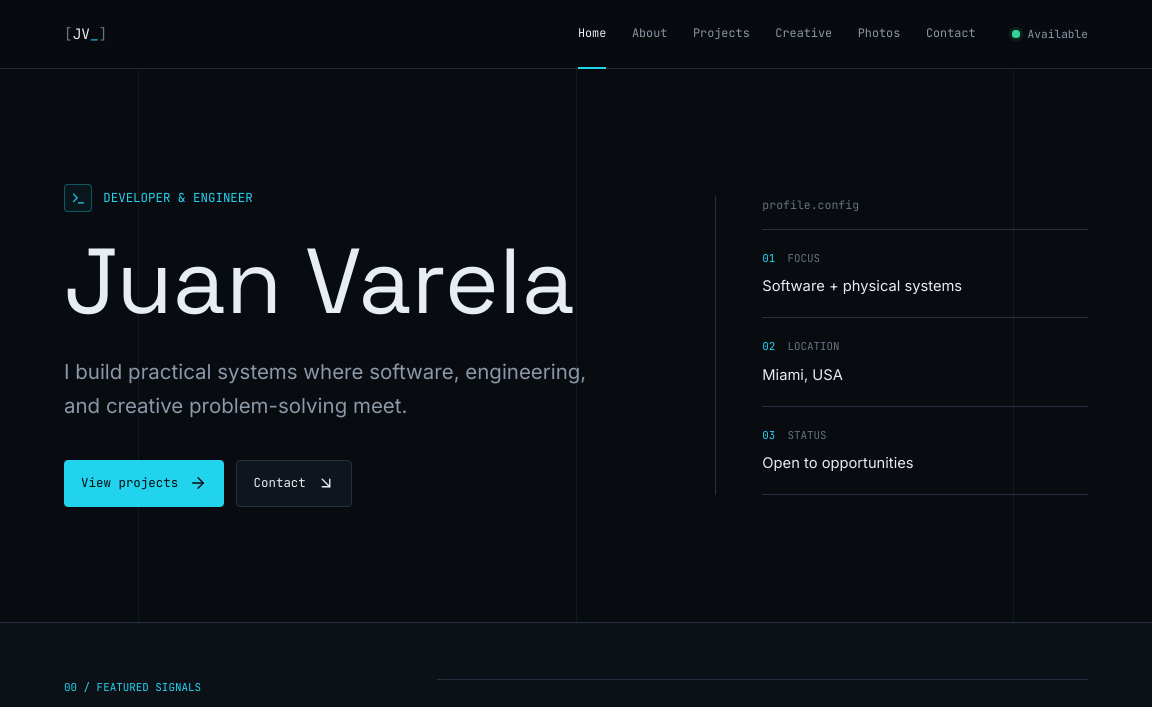
Test: App shell › navigates between portfolio routes
Click the link "View projects" at [144, 483], box [64, 460, 224, 506]
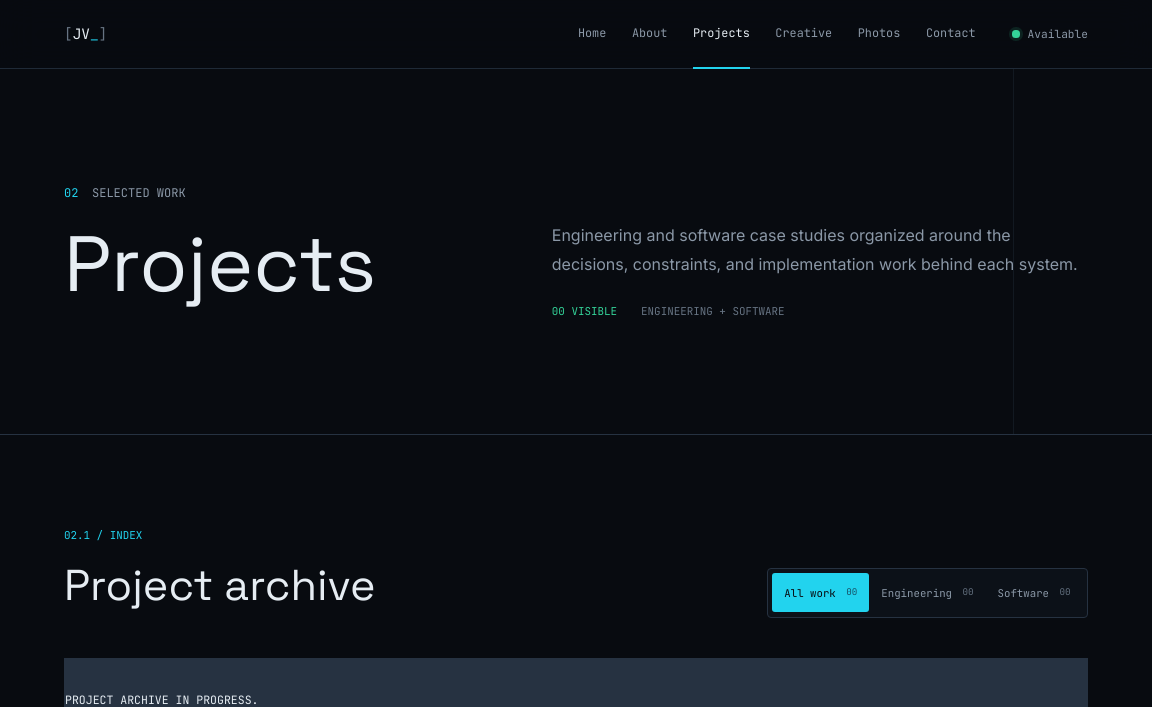
Now the heading "Projects" is shown, box [64, 214, 376, 314]
